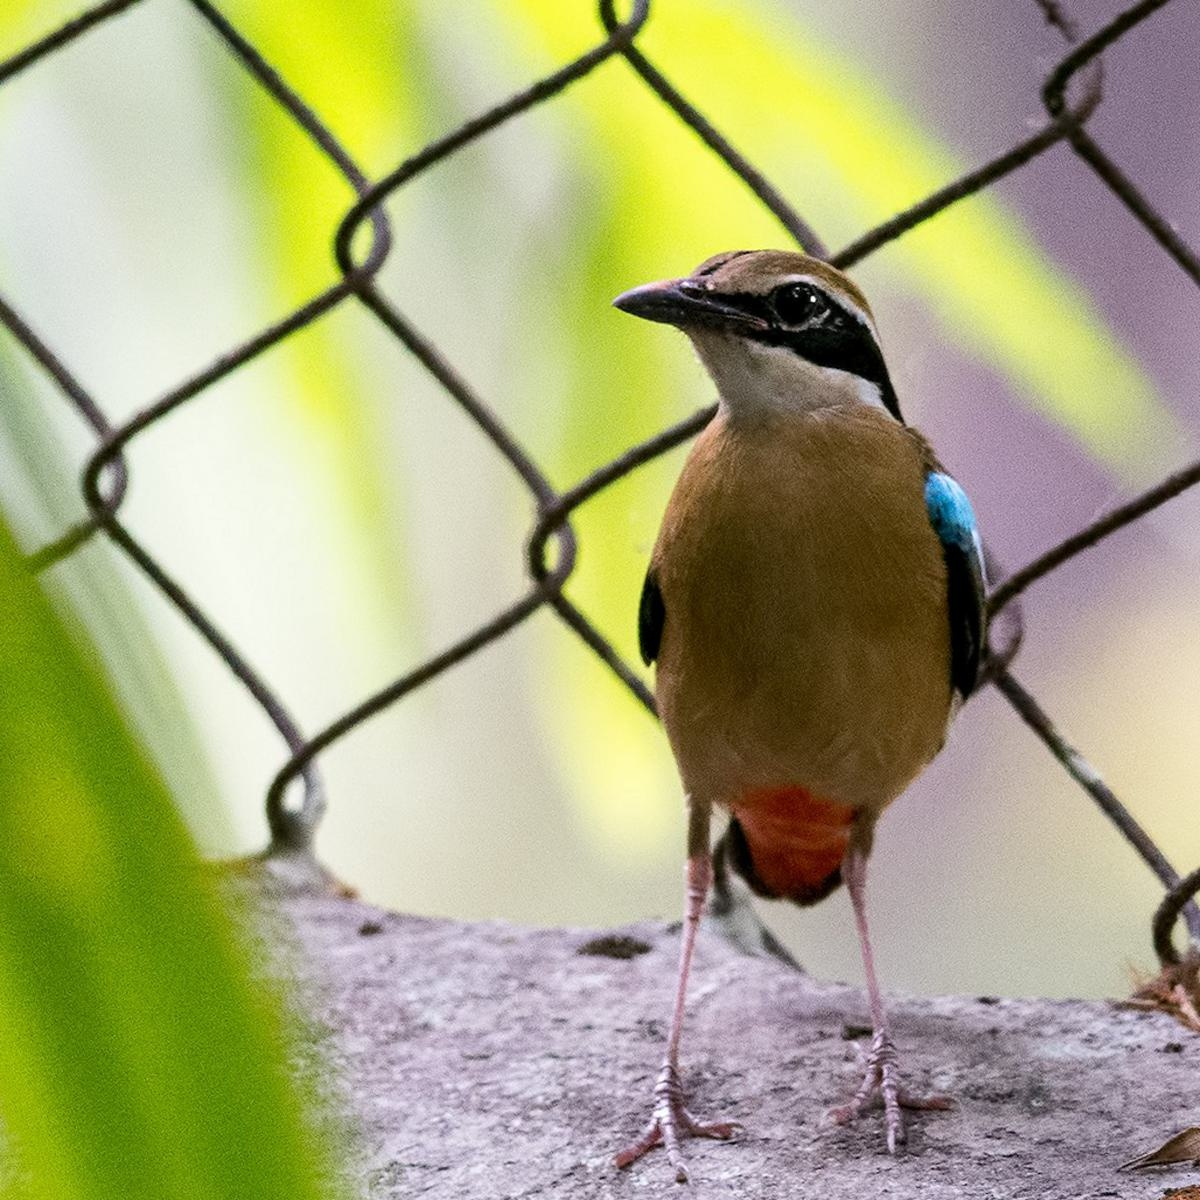pitta: (562, 188, 1000, 969)
